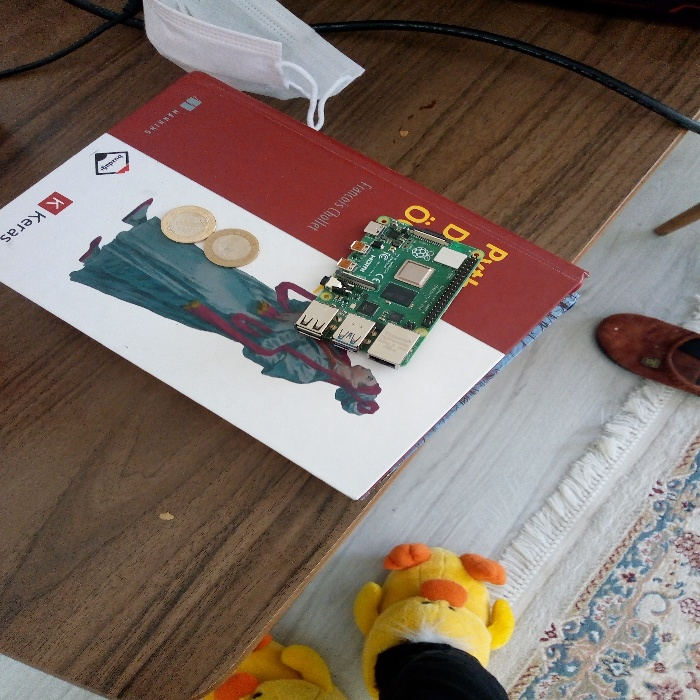raspberry: (277, 186, 488, 370)
